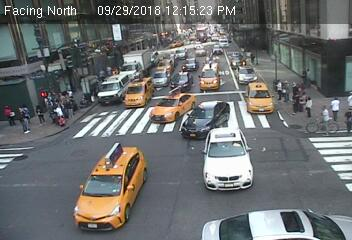car: (200, 206, 349, 240), (205, 126, 255, 190), (183, 100, 229, 141), (148, 93, 195, 119), (245, 81, 274, 115), (122, 77, 154, 106), (122, 49, 153, 78), (200, 61, 224, 92), (97, 75, 124, 101), (234, 65, 259, 85), (149, 67, 170, 88), (170, 72, 191, 92), (156, 58, 176, 73), (181, 58, 198, 72), (194, 45, 207, 58), (211, 43, 225, 55), (173, 47, 187, 58)
